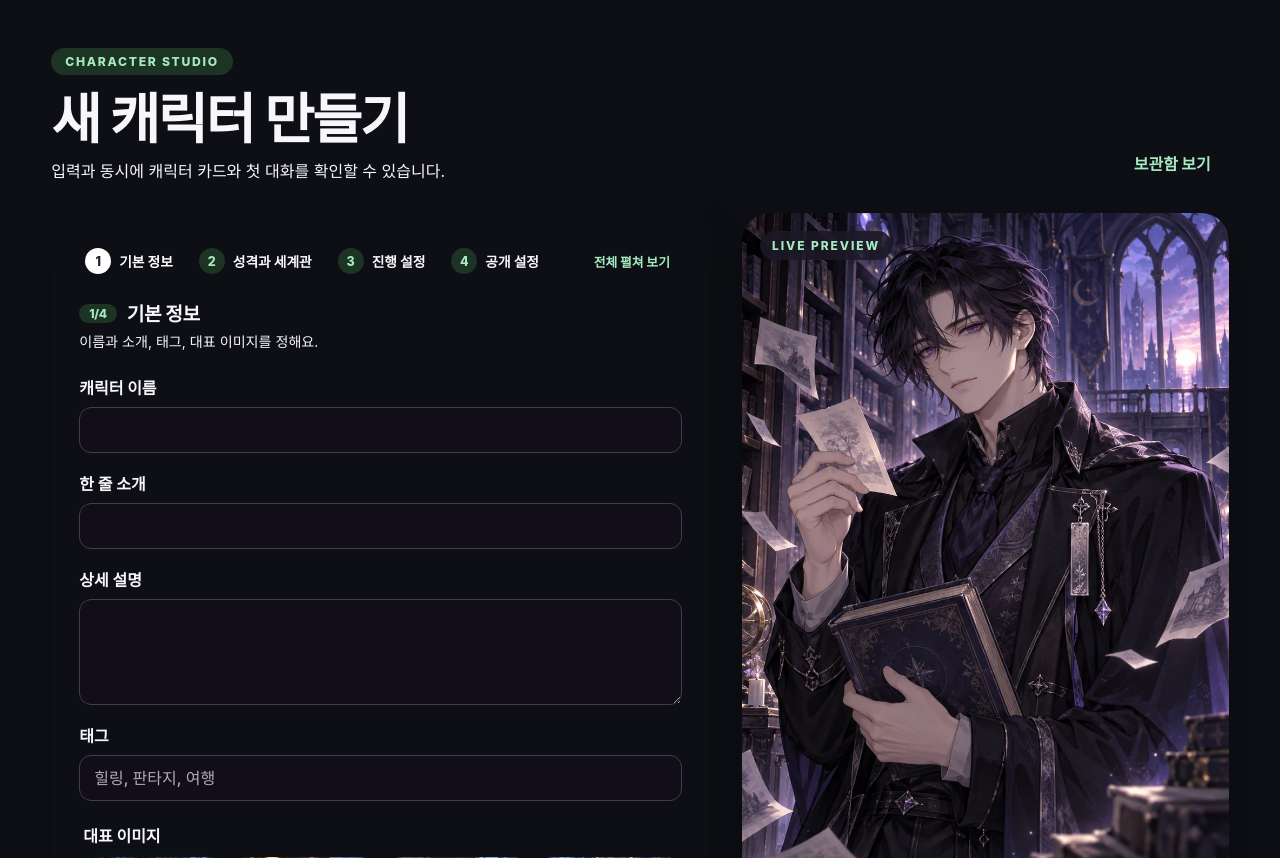
Test: 캐릭터 편집기 › 필수값 누락을 한 번에 안내하고 저장하지 않는다
Step 1. Click the button "전체 펼쳐 보기" → click(632, 261), box [582,243,682,279]
(page scrolled)
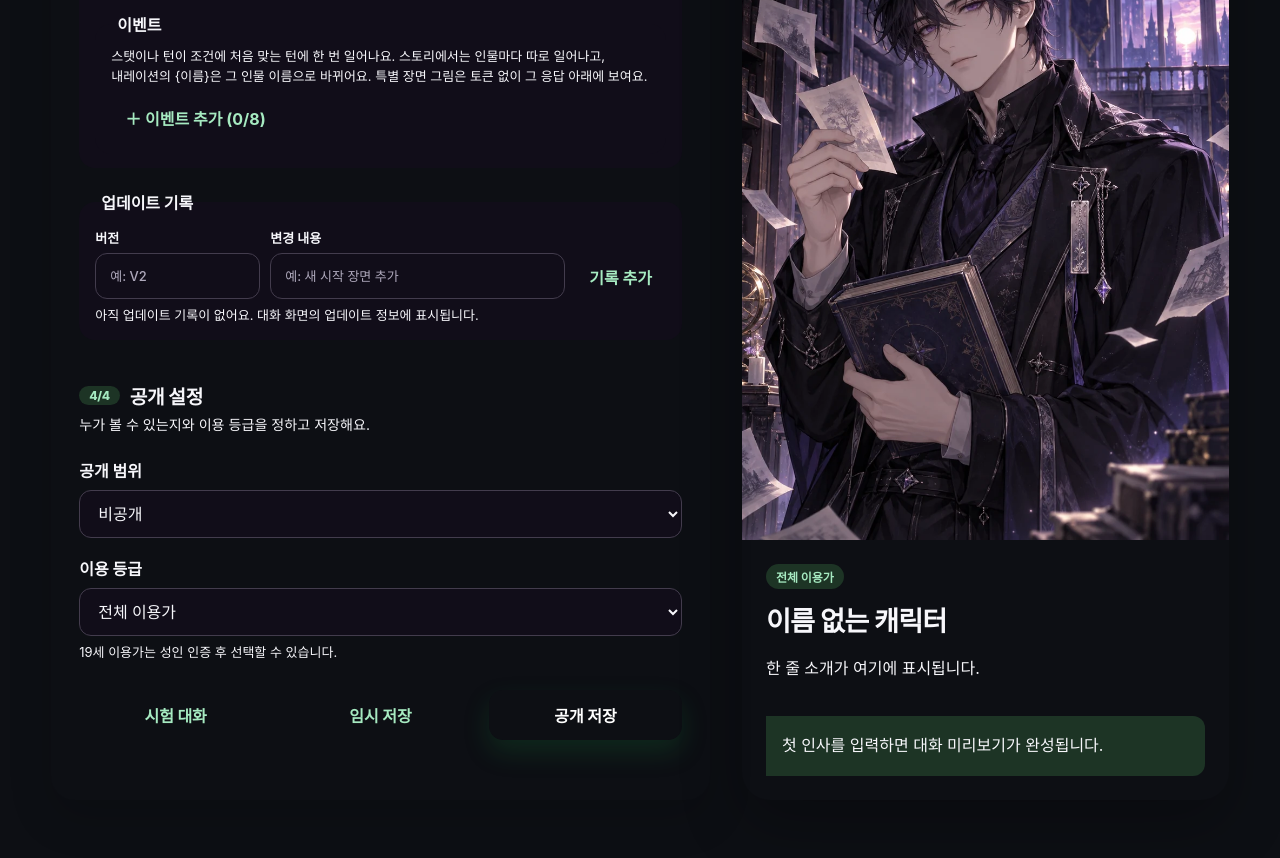
Step 2. Click the button "공개 저장" → click(585, 715), box [489,690,682,740]
(page scrolled)
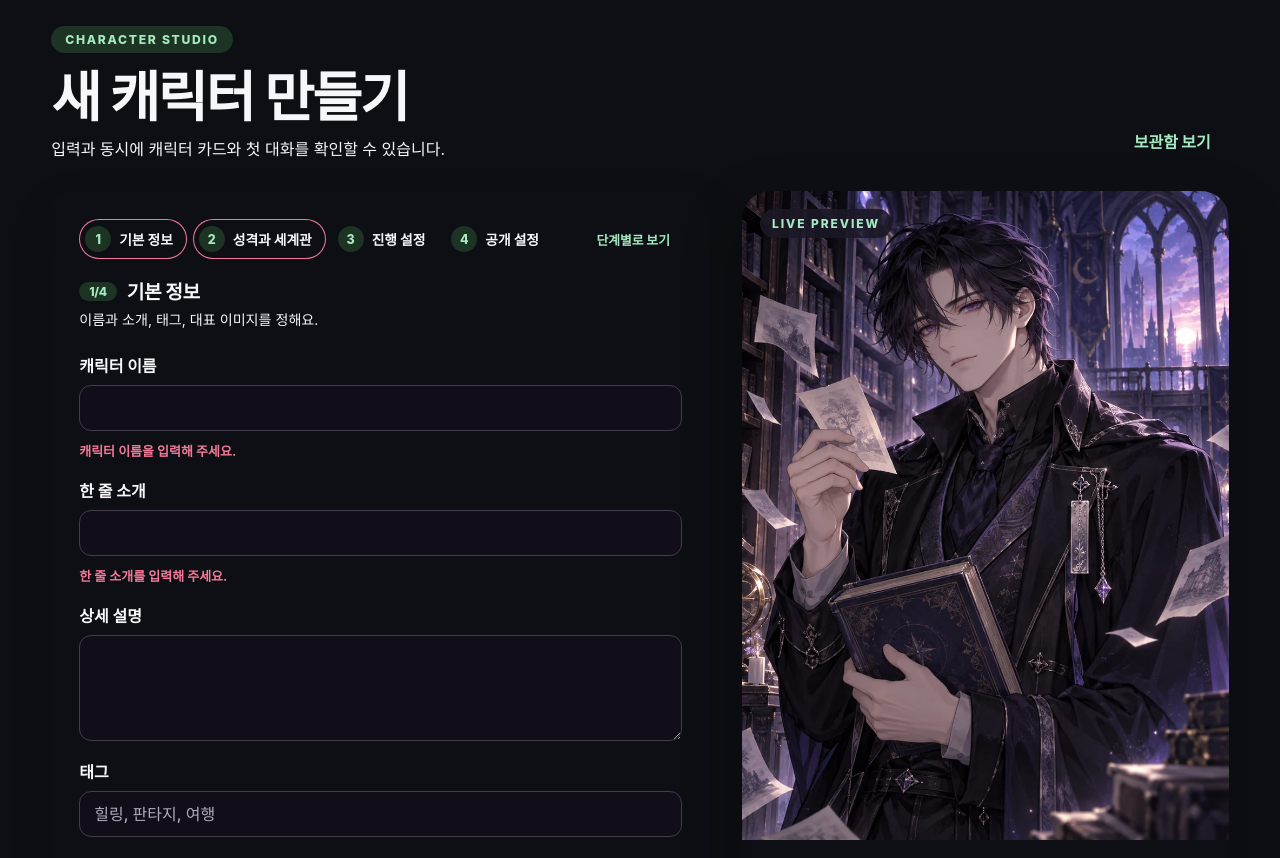
expect the text "캐릭터 이름을 입력해 주세요." is shown: met, box [79,443,236,459]
